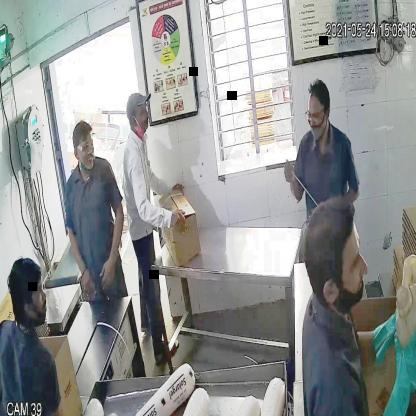goggles: (72, 134, 95, 156), (304, 105, 327, 126)
